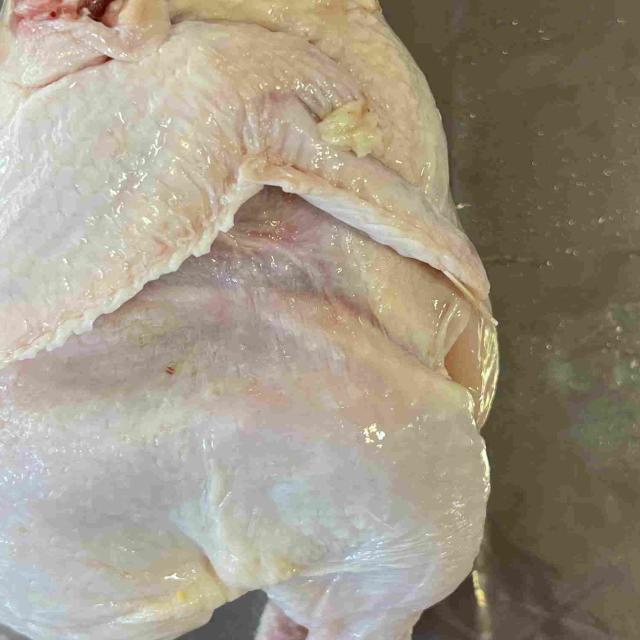leg: (129, 286, 482, 640)
neck: (0, 0, 169, 77)
wing: (0, 20, 497, 342)
